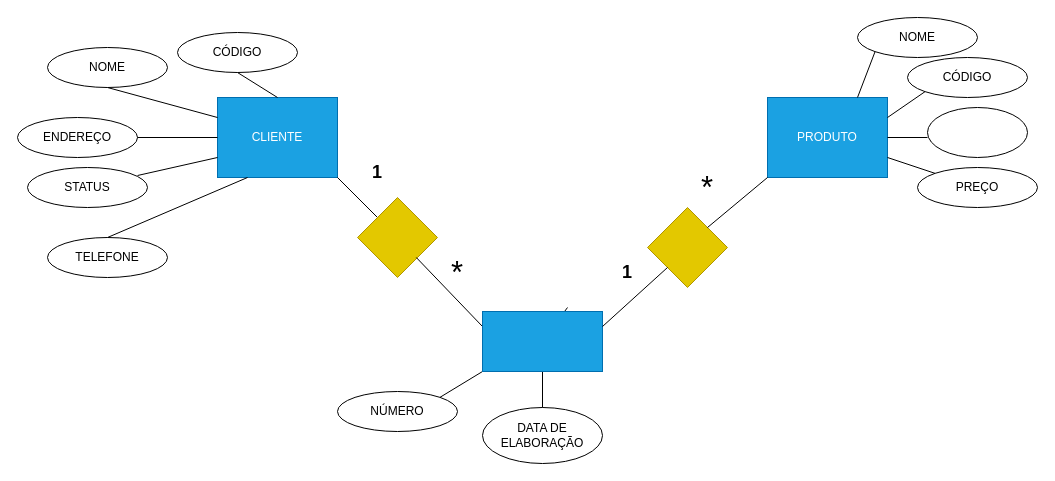
Some shapes in this 1055 by 481 pixel diagram are drawn without their labels. The box of each missing label's shape, as (x1, y1, x2, y2) in pixels:
CATEGORIA: (926, 106, 1028, 158)
ENVOLVE: (646, 206, 728, 288)
FAZ: (356, 196, 438, 278)
PEDIDO: (482, 310, 602, 372)
